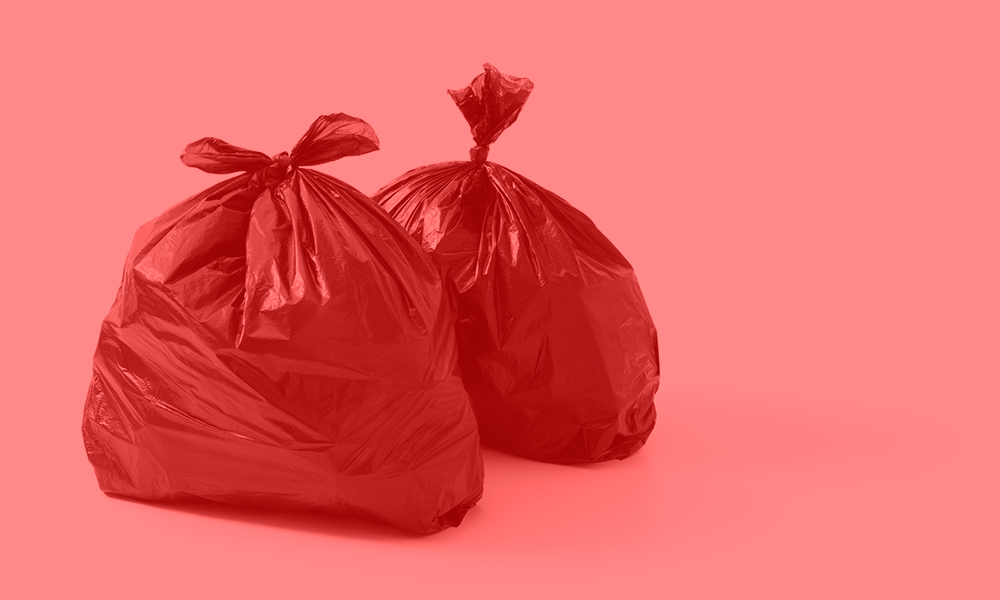plastic_bag: (73, 110, 495, 540)
